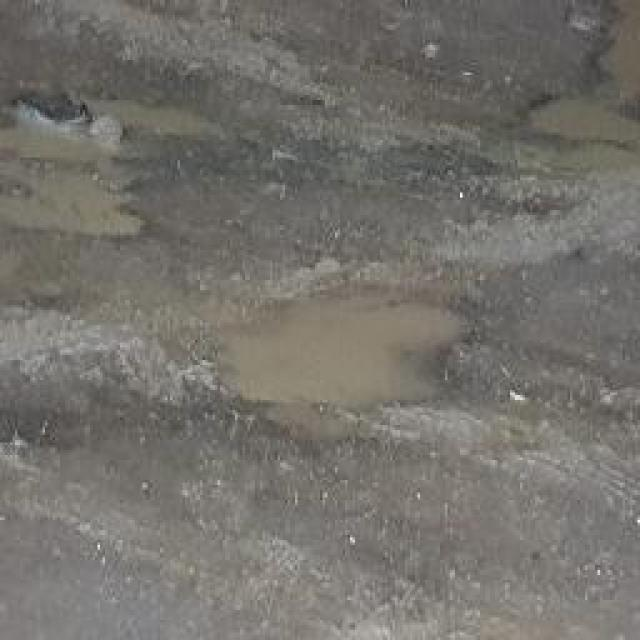waterlogging: (200, 268, 486, 430), (0, 74, 187, 253), (445, 2, 640, 160)
